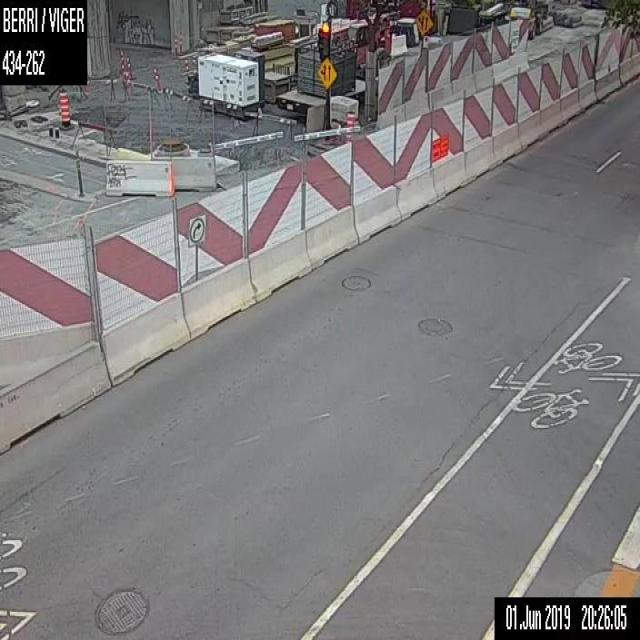construction: (58, 90, 72, 130), (346, 108, 353, 144)
